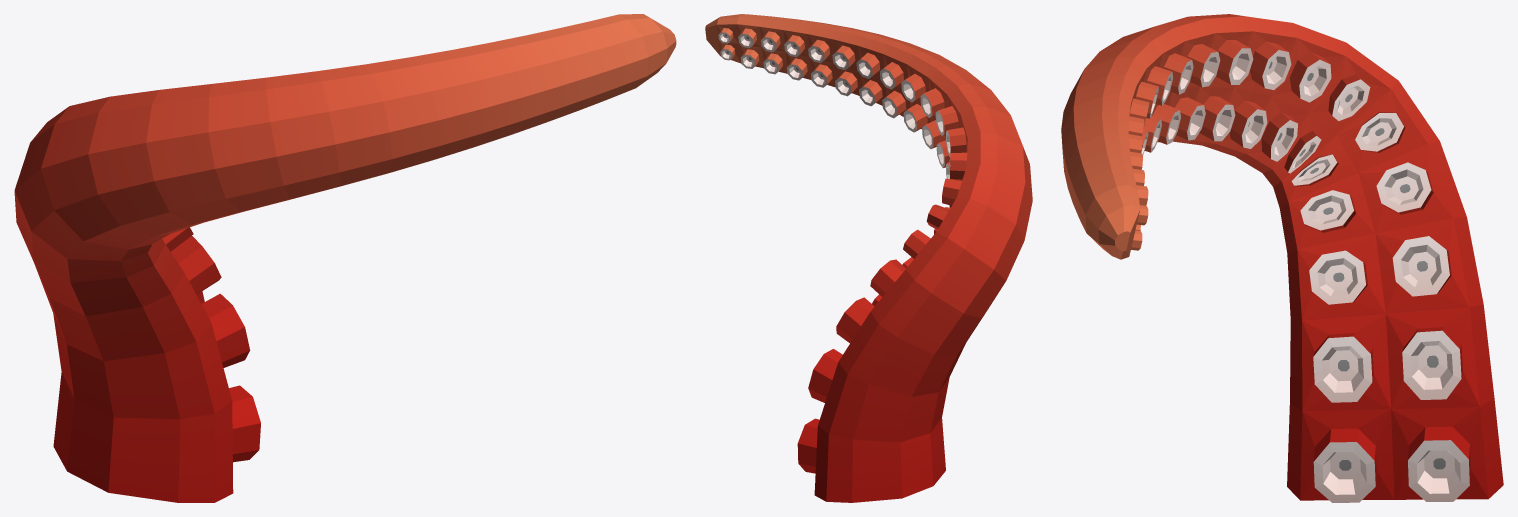
Rendered from tentacles-5.glb.
3 views of the same model, side by side, from view 1: azimuth 30°, elevation 25°; view 2: azimuth 150°, elevation 25°; view 3: azimuth 270°, elevation 25° (orthographic). The views are drawn at different scales.
Visible parts, largest first — view 1: tentacles 5; view 2: tentacles 5; view 3: tentacles 5.
Boxes of the visible parts, <box> form: tentacles 5: <box>14,14,676,502</box>; tentacles 5: <box>705,14,1032,502</box>; tentacles 5: <box>1061,14,1503,502</box>.
Size of the model in its own units: 8.94 by 7.69 by 6.61.
1 material, 1 textured.
